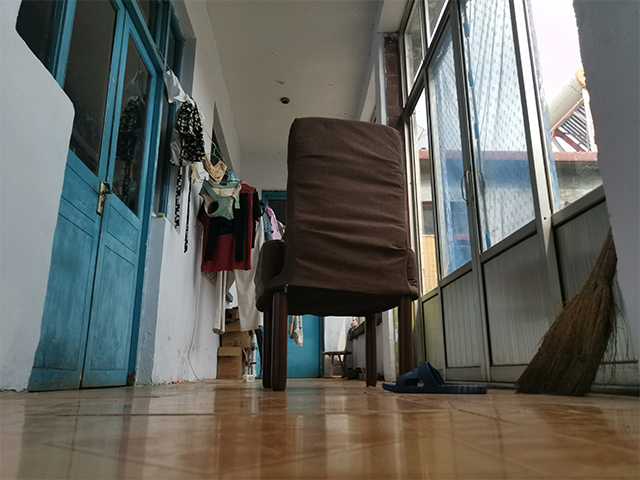slippers: (376, 358, 489, 396)
stool: (254, 114, 425, 393)
